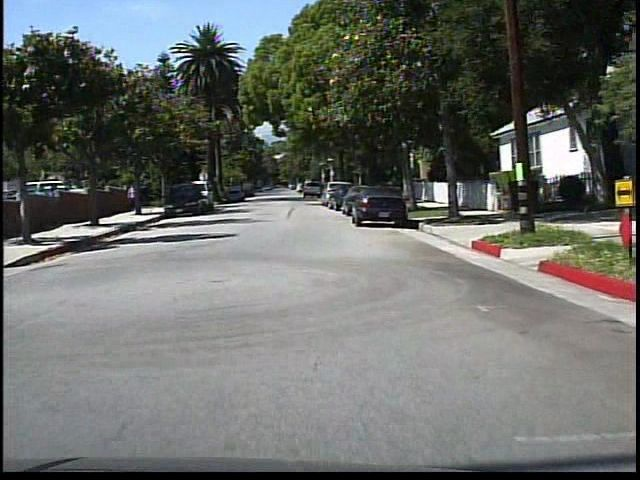person: (128, 181, 143, 215)
